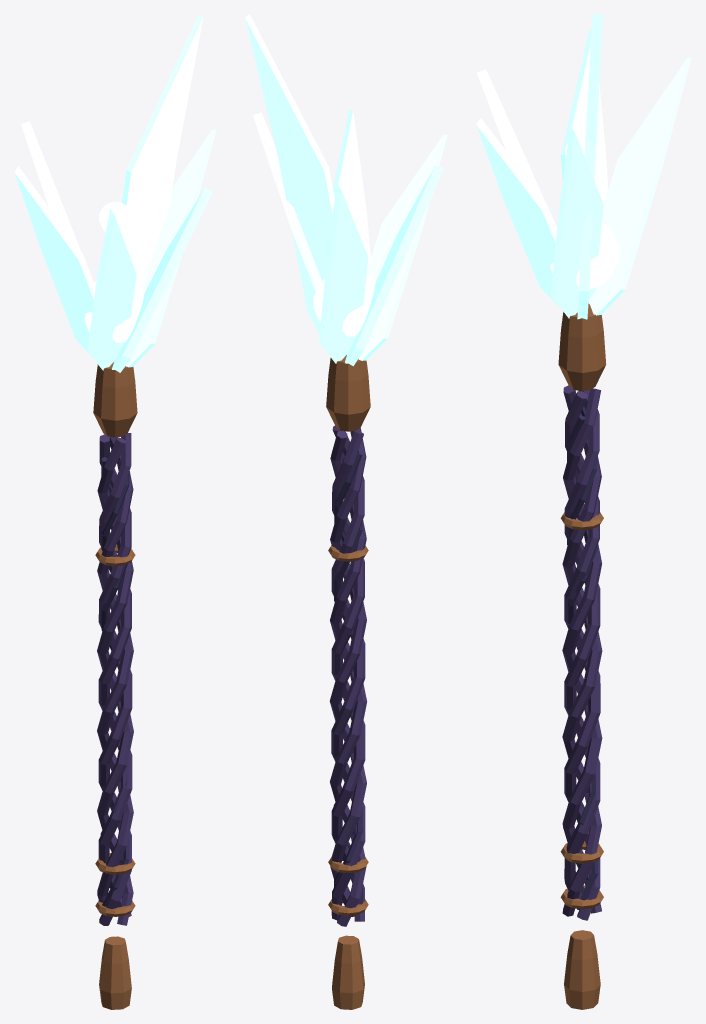
The model's file is staff_paleblaze.glb.
3 views of the same model, side by side, from view 1: azimuth 30°, elevation 25°; view 2: azimuth 150°, elevation 25°; view 3: azimuth 270°, elevation 25° (orthographic). The views are drawn at different scales.
Visible parts, largest first — view 1: Pb_Flame0, Pb_Flame2, Pb_Flame3, Pb_Strand3, Pb_Flame5, Pb_Strand1, Pb_Strand0, Pb_Strand2, Pb_Flame4, Pb_Neck, Pb_Butt, Pb_Flame1 (+4 smaller); view 2: Pb_Flame0, Pb_Flame1, Pb_Flame3, Pb_Strand3, Pb_Strand1, Pb_Strand2, Pb_Strand0, Pb_Flame2, Pb_Neck, Pb_Butt, Pb_Flame4, Pb_Flame5 (+3 smaller); view 3: Pb_Flame1, Pb_Flame5, Pb_Flame4, Pb_Strand1, Pb_Strand3, Pb_Strand2, Pb_Strand0, Pb_Neck, Pb_Flame0, Pb_Butt, Pb_Flame2, Pb_Flame3 (+3 smaller).
Part boxes in pixels (left/top/right/bottom): Pb_Flame0: left=122, top=14, right=203, bottom=287; Pb_Flame2: left=14, top=166, right=95, bottom=355; Pb_Flame3: left=87, top=209, right=136, bottom=370; Pb_Strand3: left=97, top=437, right=133, bottom=925; Pb_Flame5: left=126, top=129, right=216, bottom=367; Pb_Strand1: left=97, top=437, right=133, bottom=902; Pb_Strand0: left=98, top=433, right=132, bottom=916; Pb_Strand2: left=98, top=434, right=132, bottom=925; Pb_Flame4: left=112, top=188, right=212, bottom=372; Pb_Neck: left=93, top=362, right=137, bottom=437; Pb_Butt: left=99, top=936, right=131, bottom=1009; Pb_Flame1: left=21, top=121, right=80, bottom=250; Pb_Flame0: left=245, top=14, right=334, bottom=333; Pb_Flame1: left=319, top=184, right=368, bottom=363; Pb_Flame3: left=358, top=134, right=447, bottom=360; Pb_Strand3: left=329, top=427, right=366, bottom=916; Pb_Strand1: left=330, top=431, right=367, bottom=926; Pb_Strand2: left=331, top=430, right=365, bottom=921; Pb_Strand0: left=331, top=425, right=365, bottom=920; Pb_Flame2: left=345, top=165, right=443, bottom=366; Pb_Neck: left=326, top=355, right=370, bottom=431; Pb_Butt: left=332, top=935, right=364, bottom=1009; Pb_Flame4: left=333, top=110, right=370, bottom=269; Pb_Flame5: left=253, top=112, right=321, bottom=291; Pb_Flame1: left=588, top=58, right=691, bottom=315; Pb_Flame5: left=551, top=126, right=603, bottom=318; Pb_Flame4: left=476, top=118, right=560, bottom=308; Pb_Strand1: left=562, top=388, right=602, bottom=913; Pb_Strand3: left=562, top=385, right=602, bottom=916; Pb_Strand2: left=564, top=390, right=600, bottom=909; Pb_Strand0: left=564, top=391, right=600, bottom=920; Pb_Neck: left=558, top=303, right=606, bottom=391; Pb_Flame0: left=577, top=14, right=602, bottom=319; Pb_Butt: left=564, top=930, right=600, bottom=1009; Pb_Flame2: left=561, top=29, right=608, bottom=304; Pb_Flame3: left=477, top=69, right=544, bottom=200.
Size of the model in its own units: 0.5843 by 2.74 by 0.5157.
